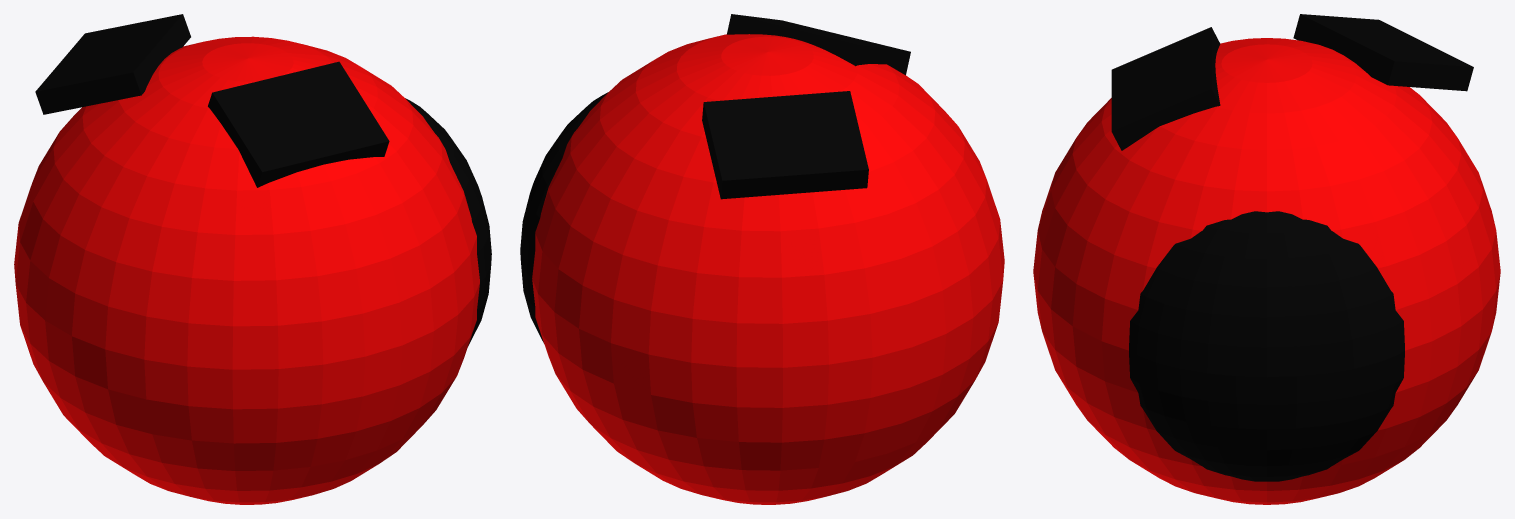
Rendered from ladybug.glb.
3 views of the same model, side by side, from view 1: azimuth 30°, elevation 25°; view 2: azimuth 150°, elevation 25°; view 3: azimuth 270°, elevation 25° (orthographic).
Parts seen in each view (by area): view 1: Sphere, Cube, Cube.001, Sphere.001; view 2: Sphere, Cube.001, Cube, Sphere.001; view 3: Sphere, Sphere.001, Cube, Cube.001.
Boxes of the visible parts, box(x1,y1,x2,y2) form: Sphere: box(14, 36, 479, 504); Cube: box(208, 61, 389, 187); Cube.001: box(35, 14, 190, 114); Sphere.001: box(405, 98, 491, 346); Sphere: box(532, 34, 1004, 504); Cube.001: box(702, 91, 868, 199); Cube: box(727, 14, 910, 75); Sphere.001: box(520, 92, 608, 342); Sphere: box(1033, 38, 1500, 504); Sphere.001: box(1129, 211, 1404, 481); Cube: box(1111, 27, 1220, 150); Cube.001: box(1293, 14, 1473, 91).
Bounding box in the file's own units: 1.04 × 1 × 1.
